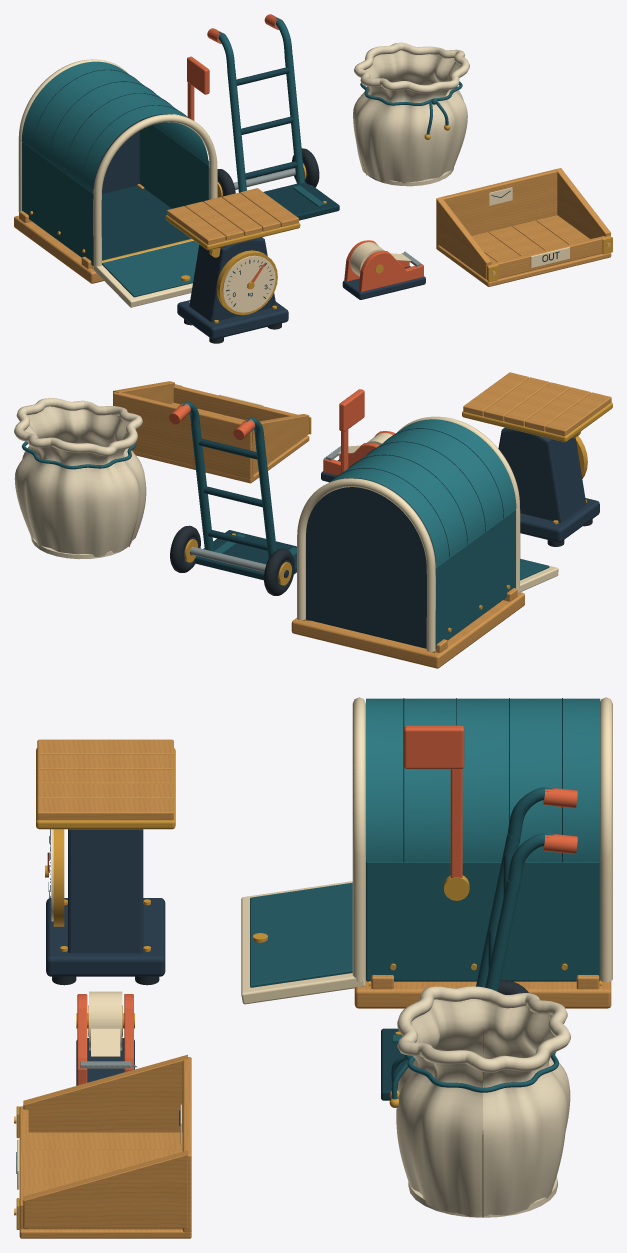
Rendered from pocket-post-organized.glb.
The picture shows the model from 3 angles, top to bottom: view 1: azimuth 30°, elevation 25°; view 2: azimuth 150°, elevation 25°; view 3: azimuth 270°, elevation 25°; orthographic projection. The views are drawn at different scales.
Parts seen in each view (by area): view 1: Mailbox_Smooth_Roof, Mail_Sack_Fabric, Mailbox_Side_-0.145, Dispatch_Bin_Back, Mailbox_Interior_Floor, Mailbox_Side_0.145, Mailbox_Loading_Door_Inset, Scale_Cast_Body, Mailbox_Cream_Arch_0.164, Mail_Sack_Rolled_Rim, Scale_Dial_Face, Dispatch_Bin_Sloped_Side_-0.15 (+28 smaller); view 2: Mailbox_Back, Mail_Sack_Fabric, Mailbox_Smooth_Roof, Mailbox_Side_-0.145, Scale_Cast_Body, Dispatch_Bin_Back, Mailbox_Wood_Base, Mailbox_Cream_Arch_-0.163, Mail_Sack_Rolled_Rim, Dispatch_Bin_Low_Front, Dispatch_Bin_Sloped_Side_-0.15, Trolley_Loading_Toe (+23 smaller); view 3: Mailbox_Smooth_Roof, Mail_Sack_Fabric, Mailbox_Side_0.145, Scale_Cast_Body, Mailbox_Loading_Door_Inset, Dispatch_Bin_Sloped_Side_0.15, Dispatch_Bin_Sloped_Side_-0.15, Mail_Sack_Rolled_Rim, Scale_Base, Mailbox_Cream_Arch_0.164, Mailbox_Wood_Base, Mailbox_Cream_Arch_-0.163 (+27 smaller).
Part boxes in pixels (bbox=[...]): Mailbox_Smooth_Roof: bbox=[21, 61, 208, 193]; Mail_Sack_Fabric: bbox=[353, 50, 467, 183]; Mailbox_Side_-0.145: bbox=[22, 142, 93, 265]; Dispatch_Bin_Back: bbox=[436, 169, 557, 246]; Mailbox_Interior_Floor: bbox=[101, 185, 191, 260]; Mailbox_Side_0.145: bbox=[139, 118, 209, 208]; Mailbox_Loading_Door_Inset: bbox=[102, 240, 199, 297]; Scale_Cast_Body: bbox=[189, 237, 276, 322]; Mailbox_Cream_Arch_0.164: bbox=[93, 114, 217, 268]; Mail_Sack_Rolled_Rim: bbox=[354, 42, 469, 93]; Scale_Dial_Face: bbox=[222, 255, 275, 312]; Dispatch_Bin_Sloped_Side_-0.15: bbox=[436, 197, 491, 279]; Mailbox_Back: bbox=[306, 482, 435, 647]; Mail_Sack_Fabric: bbox=[14, 406, 146, 556]; Mailbox_Smooth_Roof: bbox=[329, 419, 516, 566]; Mailbox_Side_-0.145: bbox=[435, 509, 515, 648]; Scale_Cast_Body: bbox=[498, 427, 586, 522]; Dispatch_Bin_Back: bbox=[113, 392, 253, 478]; Mailbox_Wood_Base: bbox=[291, 592, 524, 668]; Mailbox_Cream_Arch_-0.163: bbox=[297, 478, 435, 651]; Mail_Sack_Rolled_Rim: bbox=[14, 398, 142, 456]; Dispatch_Bin_Low_Front: bbox=[173, 385, 309, 432]; Dispatch_Bin_Sloped_Side_-0.15: bbox=[252, 414, 309, 475]; Trolley_Loading_Toe: bbox=[194, 530, 296, 580]; Mailbox_Smooth_Roof: bbox=[366, 698, 600, 861]; Mail_Sack_Fabric: bbox=[396, 999, 570, 1217]; Mailbox_Side_0.145: bbox=[366, 862, 600, 981]; Scale_Cast_Body: bbox=[68, 829, 143, 953]; Mailbox_Loading_Door_Inset: bbox=[250, 882, 352, 987]; Dispatch_Bin_Sloped_Side_0.15: bbox=[23, 1150, 187, 1228]; Dispatch_Bin_Sloped_Side_-0.15: bbox=[23, 1054, 187, 1132]; Mail_Sack_Rolled_Rim: bbox=[397, 986, 570, 1072]; Scale_Base: bbox=[46, 898, 165, 976]; Mailbox_Cream_Arch_0.164: bbox=[352, 697, 365, 982]; Mailbox_Wood_Base: bbox=[354, 980, 611, 1008]; Mailbox_Cream_Arch_-0.163: bbox=[600, 697, 612, 982].
Size of the model in its own units: 1.05 by 0.413 by 0.7935.
Materials: 13 (2 with a texture image).
